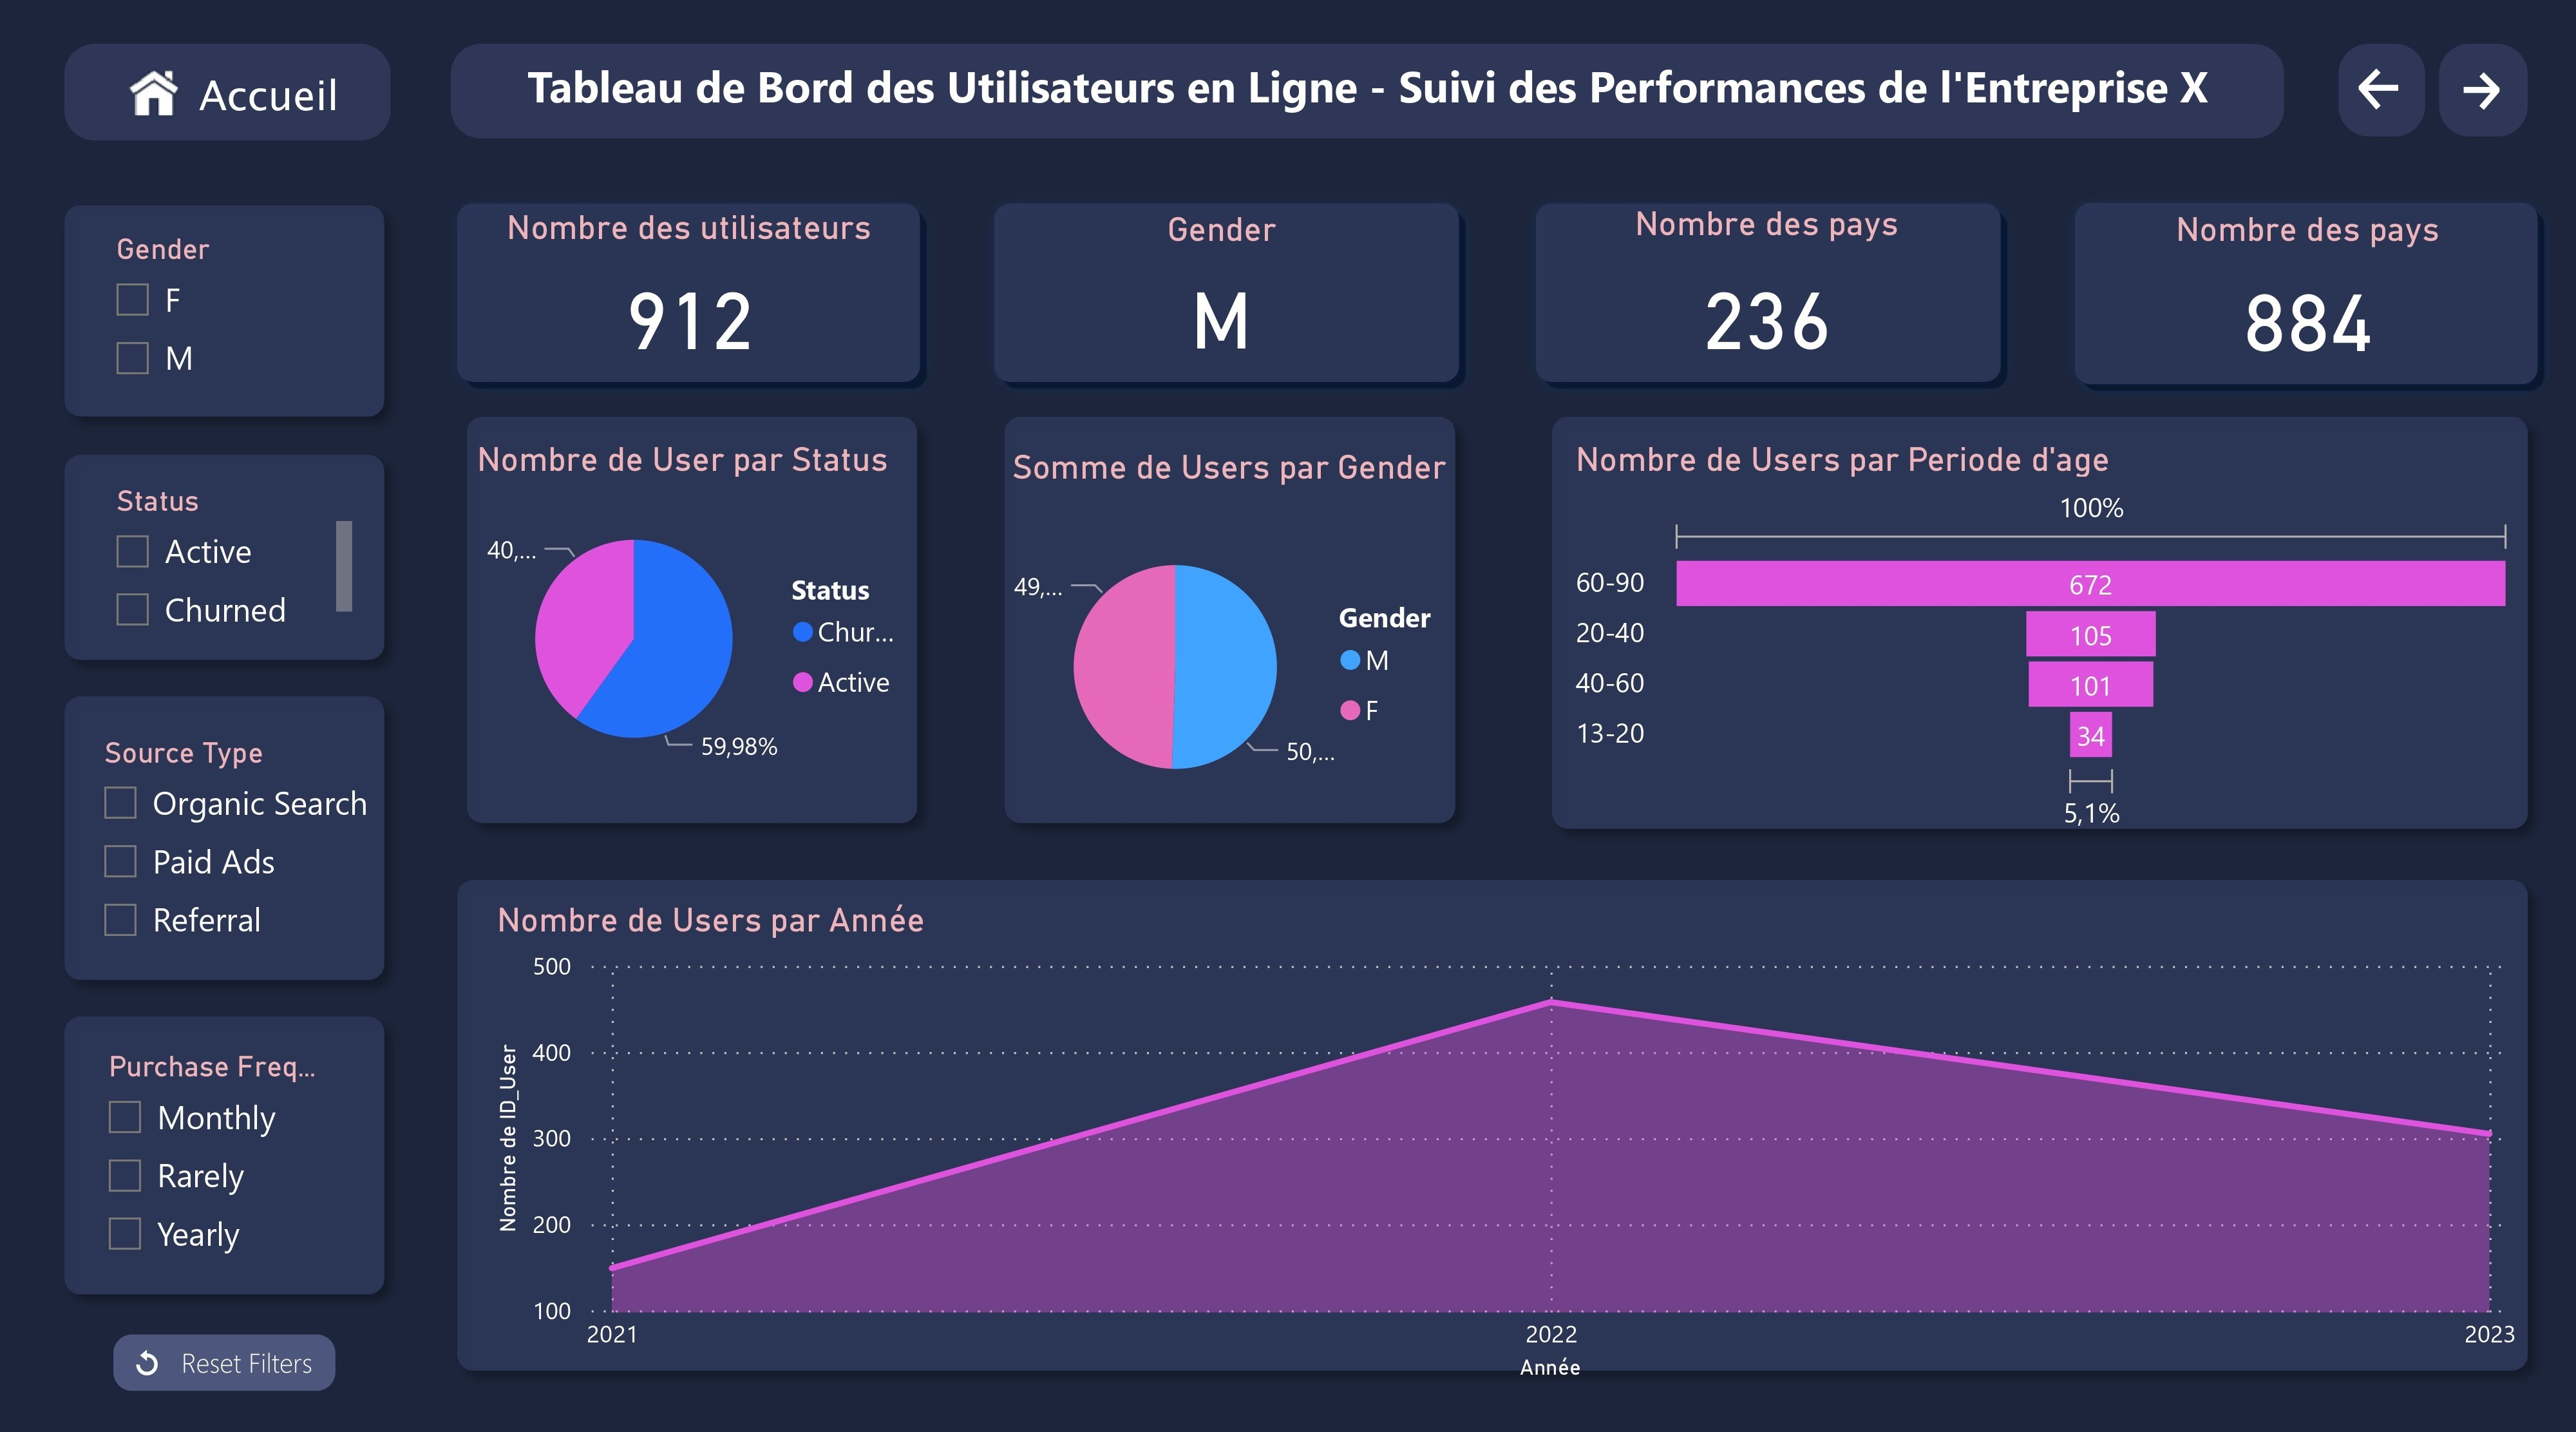

What the dashboard file says about the page in this screenshot:
{"tool":"powerbi","page":{"name":"Users","canvas":[1280,720],"ordinal":1},"visuals":[{"type":"shape","box":[21.1,221.1,176.7,105.6],"z":0},{"type":"shape","box":[25.6,360,177.8,106.7],"z":1000},{"type":"shape","box":[23.3,491.1,176.7,132.2],"z":2000},{"type":"shape","box":[22.9,98.6,177.1,105.7],"z":3000},{"type":"shape","box":[218.8,97.4,246.5,104.7],"z":4000},{"type":"shape","box":[485.7,97.2,246.7,105.3],"z":5000},{"type":"shape","box":[755.5,100.2,246.8,104.7],"z":6000},{"type":"shape","box":[1023.4,96.5,246.3,105.8],"z":7000},{"type":"shape","box":[220,451.7,1045,243.3],"z":8000},{"type":"shape","box":[223.3,220,508.3,206.7],"z":9000},{"type":"shape","box":[761.7,220,503.3,206.7],"z":10000},{"type":"shape","box":[23.3,25,178.3,48.3],"z":11000},{"type":"card","fields":{"Values":["Count(U_DimCity.City)"]},"box":[1060.8,106.7,171.7,85.8],"z":12000},{"type":"card","fields":{"Values":["Max(U_DimGender.Gender)"]},"box":[498.3,108.3,218.3,84.2],"z":13000},{"type":"card","fields":{"Values":["Count(U_DimCountries.Country)"]},"box":[773.3,106.7,210,90],"z":14000},{"type":"card","fields":{"Values":["CountNonNull(U_FactUsers.ID_User)"]},"box":[241.7,106.7,201.7,85.8],"z":15000},{"type":"pieChart","fields":{"Category":["U_DimGender.Gender"],"Y":["Sum(U_FactUsers.ID_User)"]},"box":[498.3,226.7,238.3,200],"z":16000},{"type":"areaChart","fields":{"Category":["U_DimUsersignUpDates.UserSignUpDate.Variation.Hiérarchie de dates.Année","U_DimUsersignUpDates.UserSignUpDate.Variation.Hiérarchie de dates.Trimestre","U_DimUsersignUpDates.UserSignUpDate.Variation.Hiérarchie de dates.Mois","U_DimUsersignUpDates.UserSignUpDate.Variation.Hiérarchie de dates.Jour"],"Y":["Count(U_FactUsers.ID_User)"]},"box":[218.3,451.7,1036.7,243.3],"z":17000},{"type":"slicer","fields":{"Values":["U_DimGender.Gender"]},"box":[31.7,110,161.7,86.7],"z":18000},{"type":"slicer","fields":{"Values":["U_DimUserSourceTypes.UserSourceType"]},"box":[33.3,360,164.4,115.6],"z":19000},{"type":"slicer","fields":{"Values":["U_DimUserPurchaseFrequency.UserPurchaseFrequency"]},"box":[33.3,503.3,161.1,120],"z":20000},{"type":"slicer","fields":{"Values":["U_DimUserStatus.UserStatus"]},"box":[32.7,227.3,161.8,96.4],"z":21000},{"type":"pieChart","fields":{"Category":["U_DimUserStatus.UserStatus"],"Y":["Count(U_FactUsers.ID_User)"]},"box":[231.7,223.3,233.3,200],"z":22000},{"type":"funnel","fields":{"Category":["U_FactUsers.Periode Age"],"Y":["Count(U_FactUsers.ID_User)"]},"box":[778.3,223.3,476.7,200],"z":23000},{"type":"shape","box":[223.6,25.6,911.4,47.1],"z":24000},{"type":"shape","box":[1153.3,25,116.7,48.3],"z":25000},{"type":"textbox","box":[230.5,27.5,897.5,42.5],"z":26000},{"type":"actionButton","box":[1224.6,30,44.6,40],"z":27000},{"type":"actionButton","box":[1161.5,30,43.8,40],"z":28000},{"type":"actionButton","title":"Reset","box":[20,652.5,177.5,42.5],"z":29000}]}

Visuals, with their boxes in screenshot pixels (x1, y1, x2, y2), scaled from the page's 1280x720 canvas onto the 2576x1432 screenshot:
shape: box=[43, 440, 398, 650]
shape: box=[52, 716, 410, 928]
shape: box=[47, 977, 402, 1239]
shape: box=[46, 196, 402, 406]
shape: box=[440, 194, 936, 402]
shape: box=[978, 193, 1474, 403]
shape: box=[1520, 199, 2017, 408]
shape: box=[2060, 192, 2555, 403]
shape: box=[443, 899, 2546, 1382]
shape: box=[450, 437, 1472, 848]
shape: box=[1533, 437, 2546, 848]
shape: box=[47, 50, 406, 146]
card - Count(U_DimCity.City): box=[2135, 212, 2481, 383]
card - Max(U_DimGender.Gender): box=[1003, 215, 1442, 383]
card - Count(U_DimCountries.Country): box=[1557, 212, 1979, 391]
card - CountNonNull(U_FactUsers.ID_User): box=[486, 212, 893, 383]
pieChart - U_DimGender.Gender x Sum(U_FactUsers.ID_User): box=[1003, 451, 1482, 848]
areaChart - U_DimUsersignUpDates.UserSignUpDate.Variation.Hiérarchie de dates.Année x U_DimUsersignUpDates.UserSignUpDate.Variation.Hiérarchie de dates.Trimestre: box=[439, 899, 2526, 1382]
slicer - U_DimGender.Gender: box=[64, 219, 389, 391]
slicer - U_DimUserSourceTypes.UserSourceType: box=[67, 716, 398, 946]
slicer - U_DimUserPurchaseFrequency.UserPurchaseFrequency: box=[67, 1001, 391, 1239]
slicer - U_DimUserStatus.UserStatus: box=[66, 452, 392, 644]
pieChart - U_DimUserStatus.UserStatus x Count(U_FactUsers.ID_User): box=[466, 444, 936, 842]
funnel - U_FactUsers.Periode Age x Count(U_FactUsers.ID_User): box=[1566, 444, 2526, 842]
shape: box=[450, 51, 2284, 144]
shape: box=[2321, 50, 2556, 146]
textbox: box=[464, 55, 2270, 139]
actionButton: box=[2465, 60, 2554, 139]
actionButton: box=[2338, 60, 2426, 139]
"Reset" actionButton: box=[40, 1298, 397, 1382]
